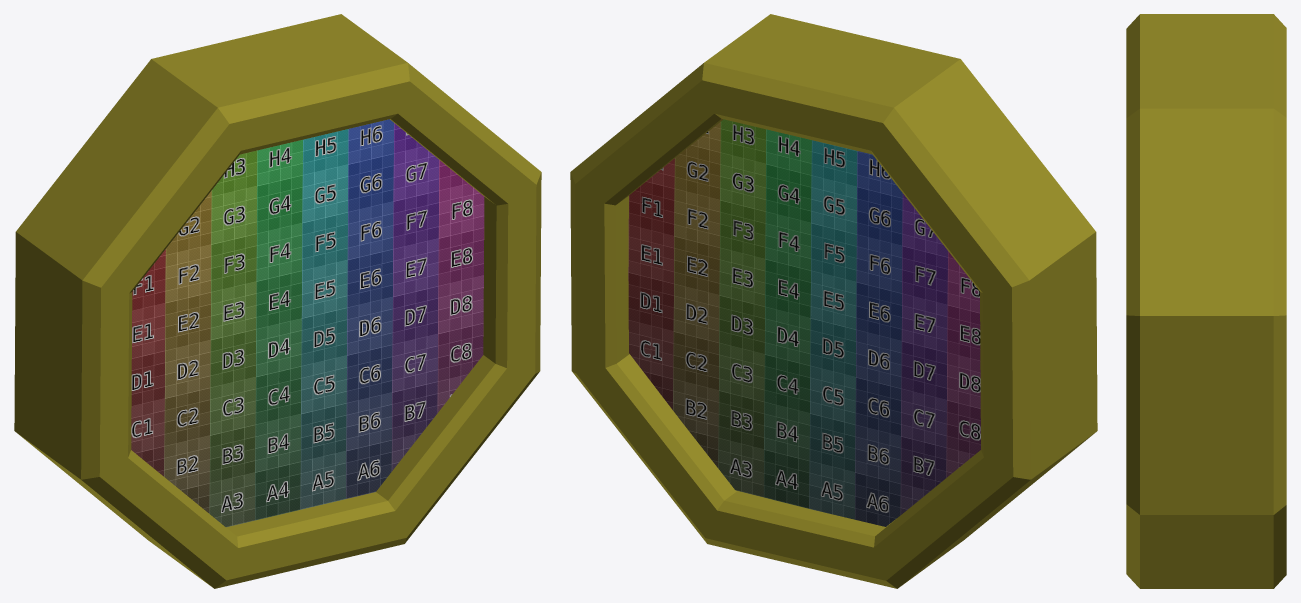
The model's file is Coin.glb.
3 renders of one model, left to right at view 1: azimuth 30°, elevation 25°; view 2: azimuth 150°, elevation 25°; view 3: azimuth 270°, elevation 25°, orthographic.
Visible parts, largest first — view 1: Circle, CoinDrawing; view 2: Circle, CoinDrawing; view 3: Circle.
Boxes of the visible parts, box(x1,y1,x2,y2) form: Circle: box(14, 14, 541, 588); CoinDrawing: box(131, 119, 484, 527); Circle: box(570, 14, 1097, 588); CoinDrawing: box(628, 119, 980, 526); Circle: box(1126, 14, 1286, 588).
Bounding box in the file's own units: 0.3706 × 0.3706 × 0.1115.
Materials: 2 (1 with a texture image).
